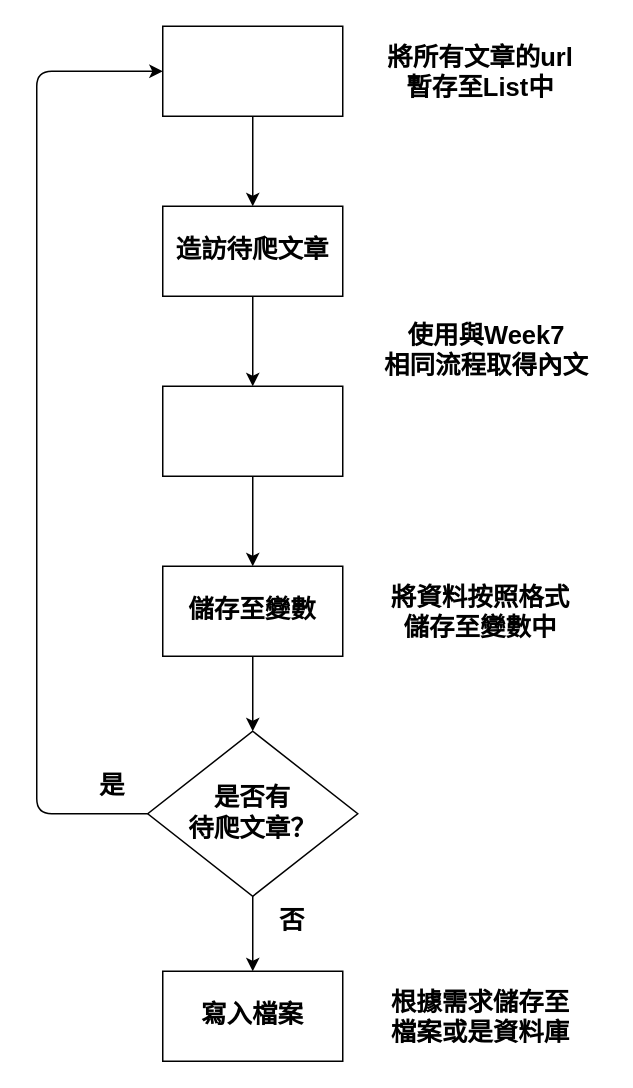
The diagram is 633 pixels wide and 1088 high, and some of its shapes have lost their labels. The box of each missing label's shape, as (x1, y1, x2, y2) in pixels:
從目錄取得 待爬文章: (161, 25, 343, 116)
獲取所需欄位: (161, 385, 343, 476)
